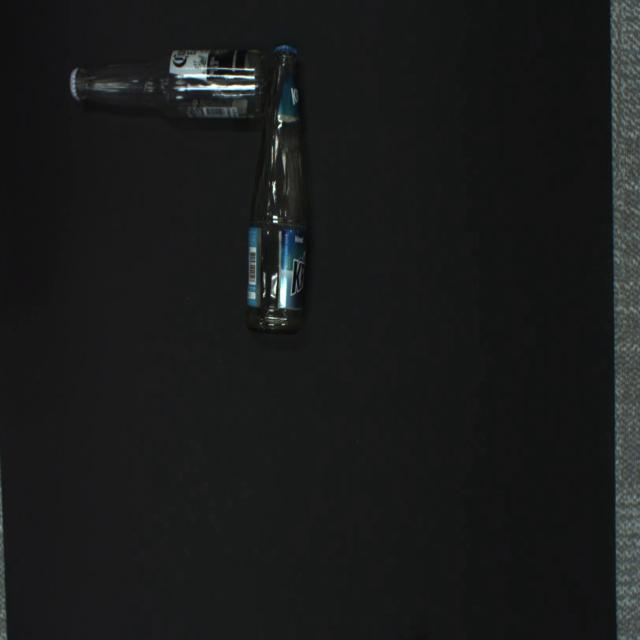beer-bottle: (246, 43, 308, 336), (69, 49, 271, 120)
